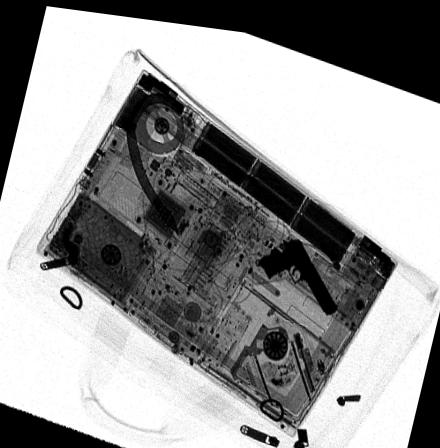Gun: (257, 229, 337, 307)
